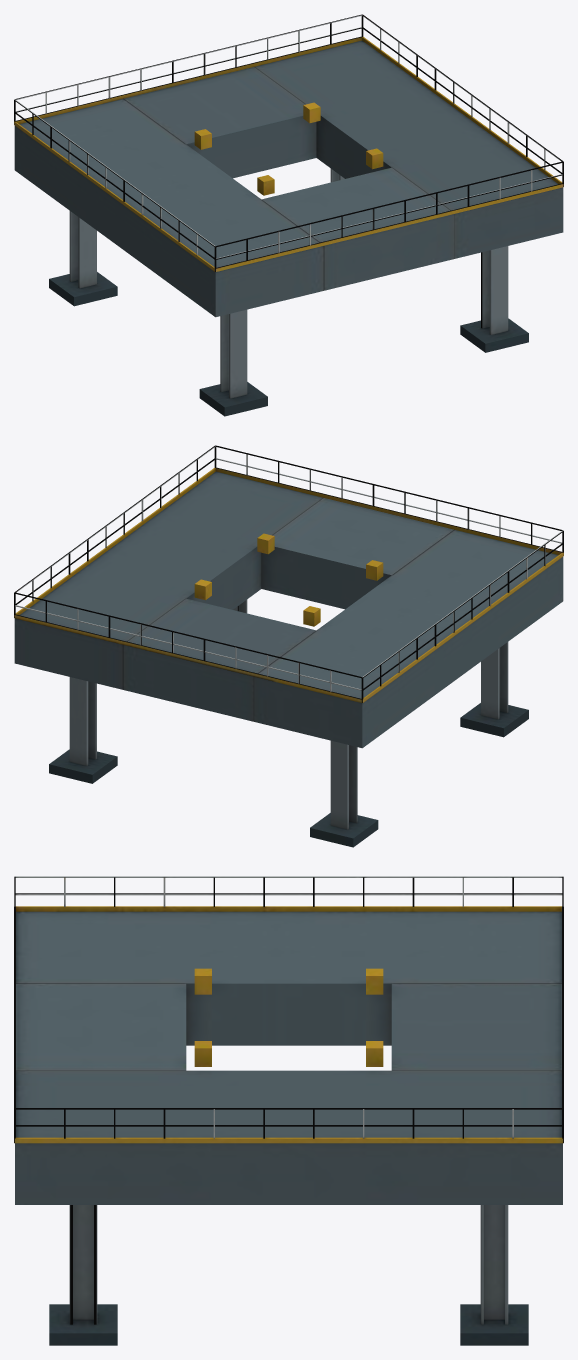
Rendered from mobile_launcher.glb.
The picture shows the model from 3 angles, top to bottom: view 1: azimuth 30°, elevation 25°; view 2: azimuth 150°, elevation 25°; view 3: azimuth 270°, elevation 25°; orthographic projection. The views are drawn at different scales.
Visible parts, largest first — view 1: body; view 2: body; view 3: body.
Boxes of the visible parts, box(x1,y1,x2,y2) form: body: box(14, 14, 563, 416); body: box(14, 445, 563, 847); body: box(14, 876, 563, 1345).
Bounding box in the file's own units: 16.06 × 8.12 × 16.06.
Materials: 1 (1 with a texture image).
